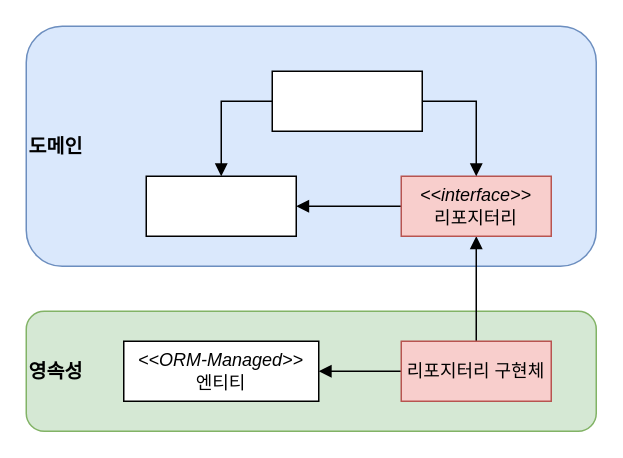
The diagram is 623 pixels wide and 458 high, and some of its shapes have lost their labels. The shapes that lost their labels are listed below. From the top down, each one's box as (x1, y1, x2, y2) in pixels, then its label:
(271, 70, 422, 131): 서비스
(145, 175, 296, 236): 엔티티
